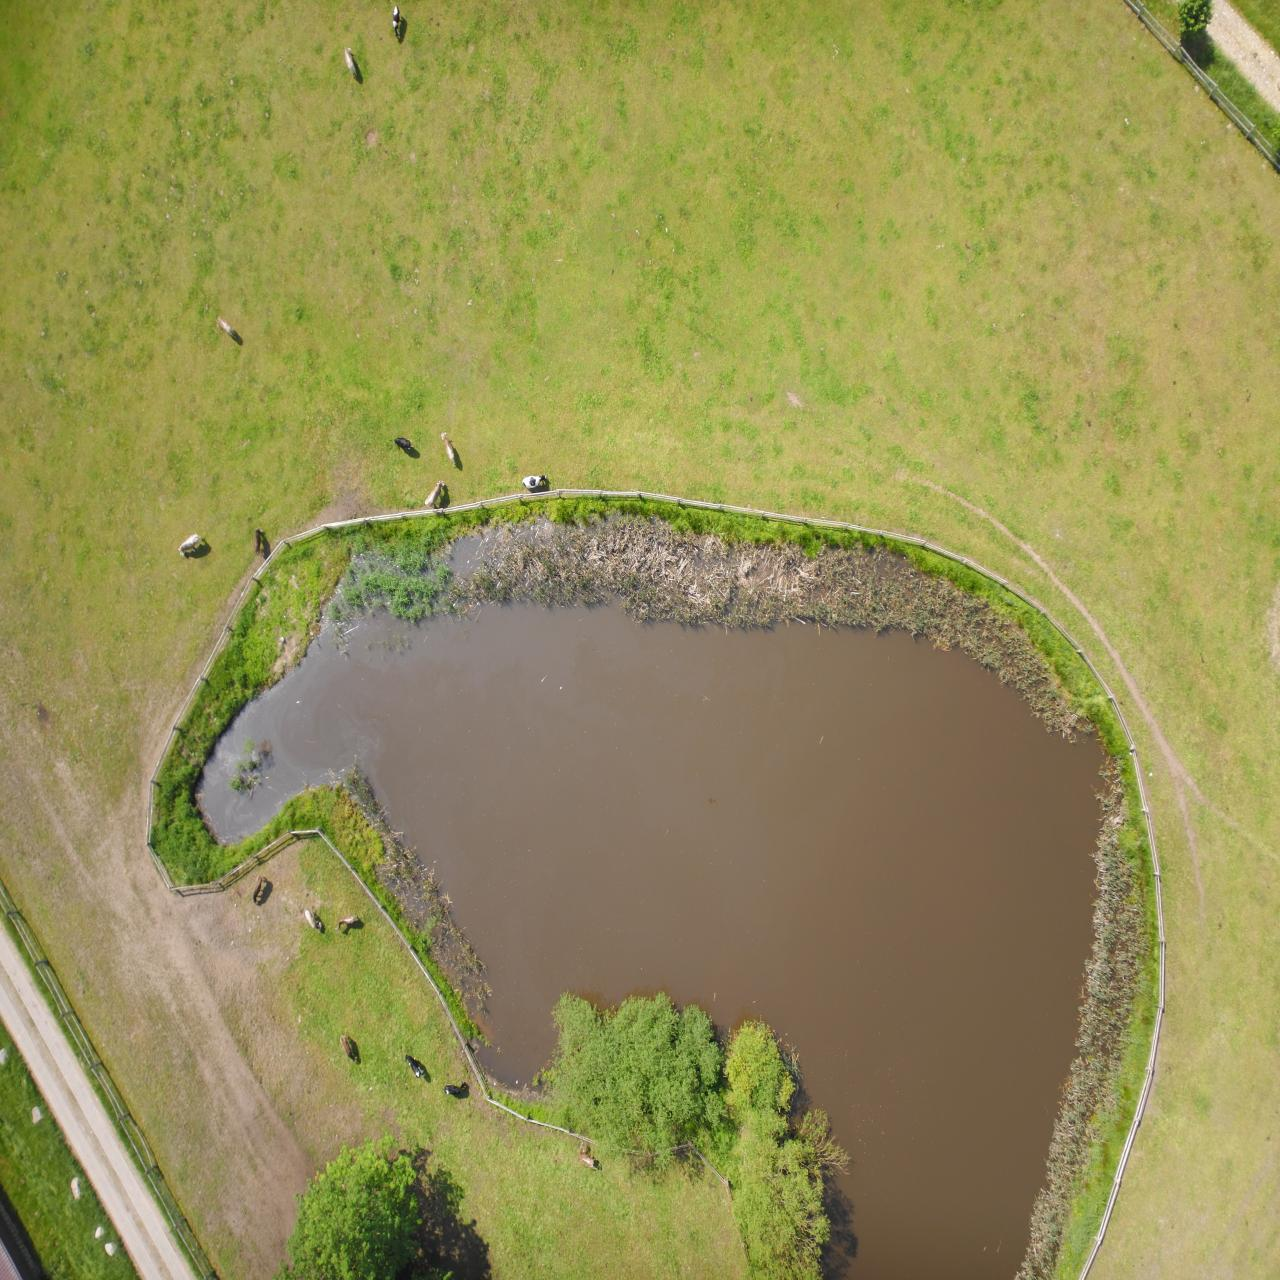cow: (823, 813, 839, 849), (836, 772, 856, 799), (855, 202, 876, 226), (1077, 724, 1102, 745), (1043, 940, 1063, 964), (924, 217, 940, 245), (921, 1201, 935, 1233), (924, 347, 945, 366), (956, 349, 975, 370), (686, 111, 701, 136), (733, 791, 758, 805), (1016, 376, 1028, 404), (1016, 722, 1027, 753), (813, 184, 836, 198), (878, 1241, 886, 1274), (867, 830, 885, 843)
